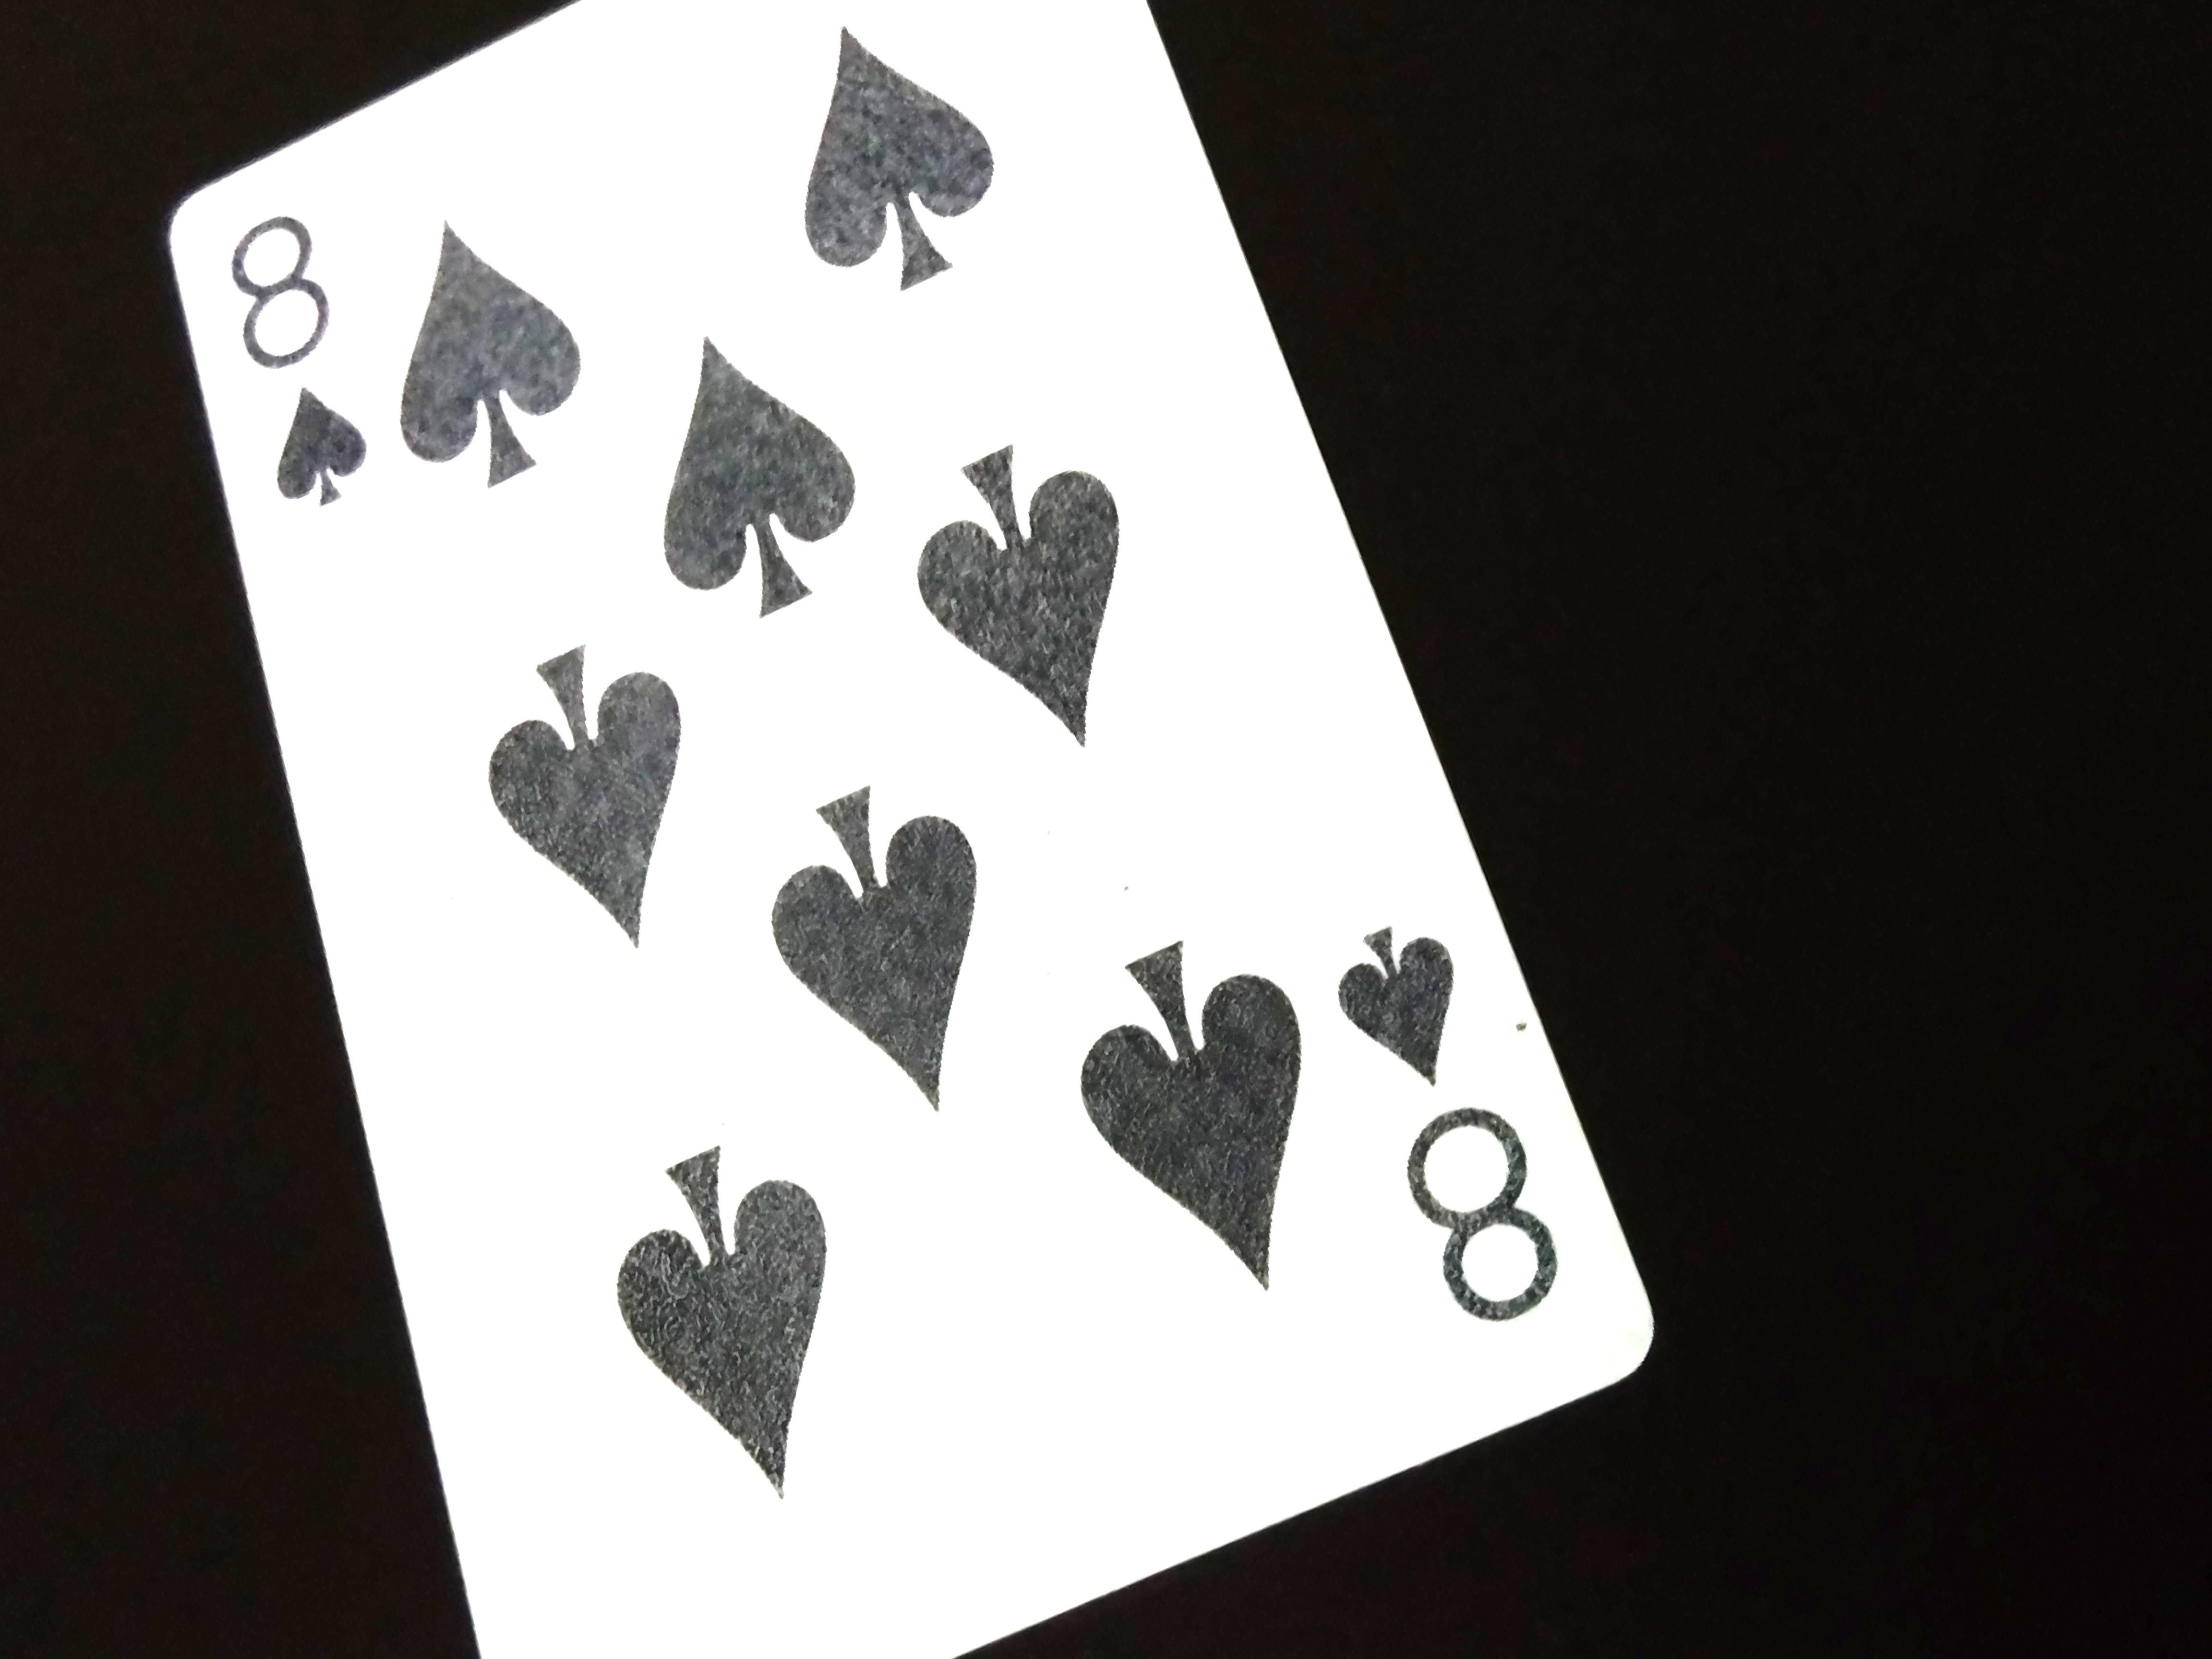8S: (1317, 889, 1581, 1358)
